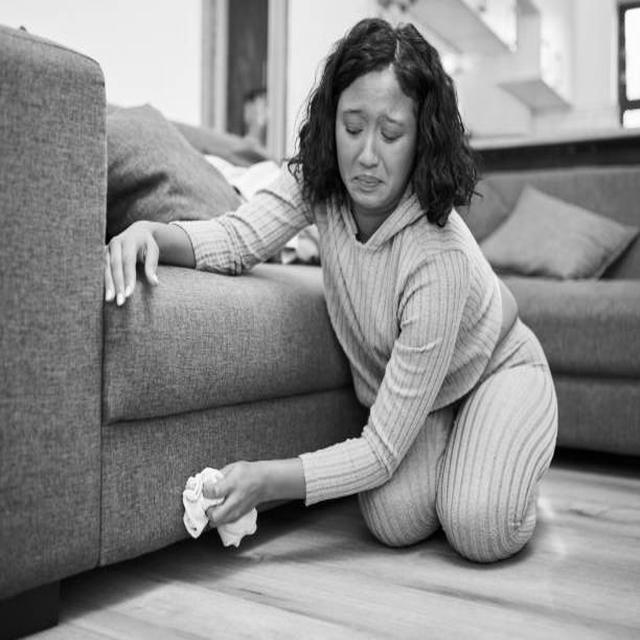Disgust: (335, 67, 417, 209)
